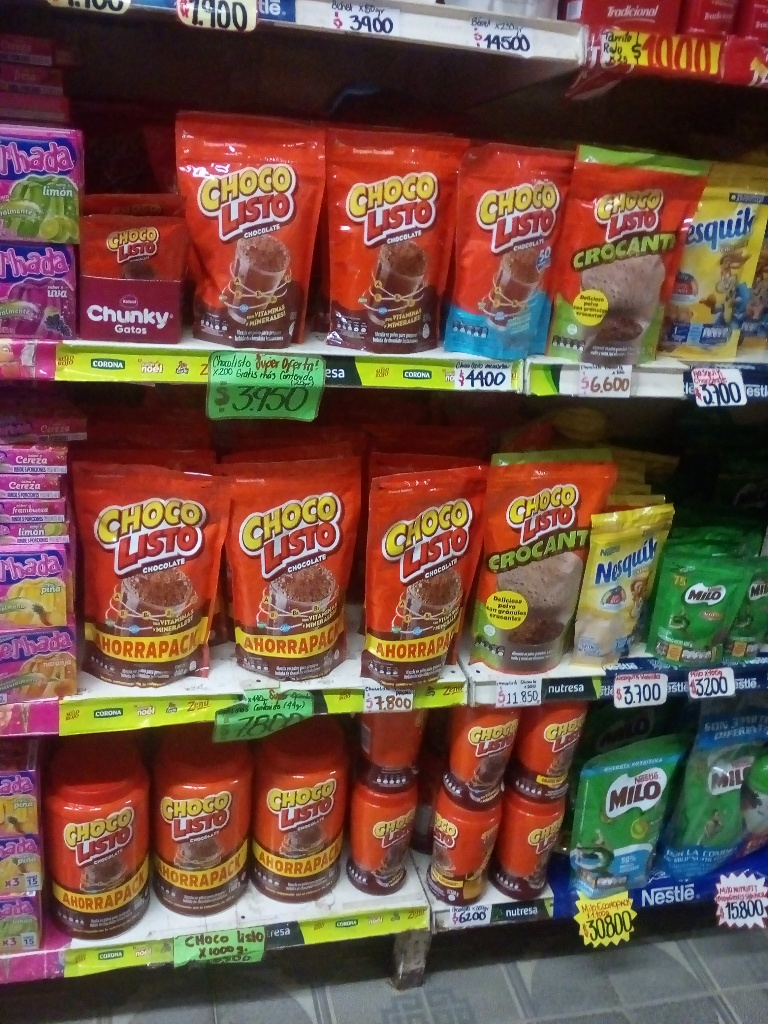COL0170102DYP25000: (558, 132, 696, 369)
COL0170102DYP50000: (471, 434, 603, 683)
COL0170103DYP20000: (164, 92, 328, 354)
COL0170103DYP40000: (63, 459, 218, 689)
COL0170103SOB02000: (82, 187, 182, 342)
COL0170103TRR00100: (42, 736, 159, 939)
COL0170103TRR30000: (357, 711, 430, 795)
COL0170104DYP20000: (446, 134, 572, 358)
COL0170203DYP10000: (644, 546, 743, 670)
COL0170205DYP50000: (650, 741, 751, 884)
COL0170303DYP20000: (662, 158, 768, 356)
COL0170306DYP20000: (577, 494, 676, 673)
